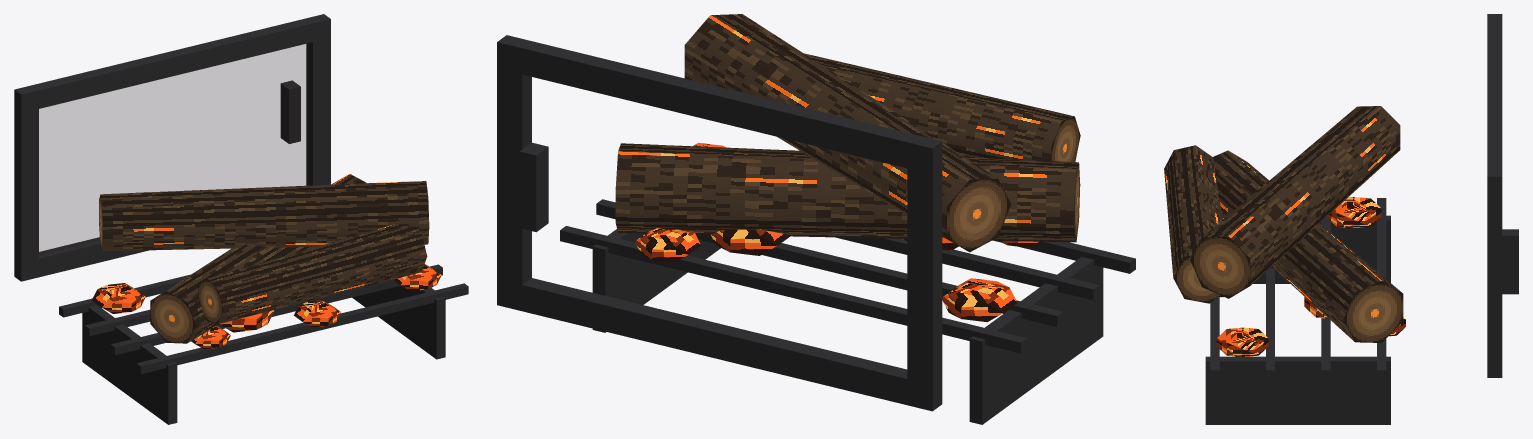
The model's file is fire.glb.
The picture shows the model from 3 angles, left to right: view 1: azimuth 30°, elevation 25°; view 2: azimuth 150°, elevation 25°; view 3: azimuth 270°, elevation 25°; orthographic projection. The views are drawn at different scales.
Parts seen in each view (by area): view 1: fire; view 2: fire; view 3: fire.
Part boxes in pixels (x1,y1,x2,y2): fire: [14, 14, 468, 424]; fire: [497, 14, 1135, 424]; fire: [1164, 14, 1518, 424].
Bounding box in the file's own units: 2.2 × 1.53 × 1.92.
5 materials, 3 textured.
